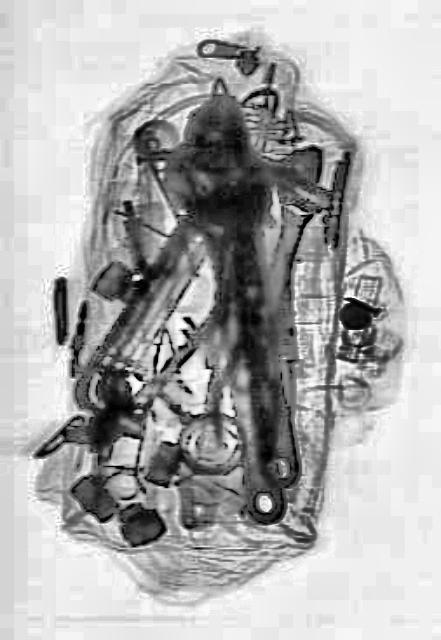Wrench: (237, 128, 334, 332)
